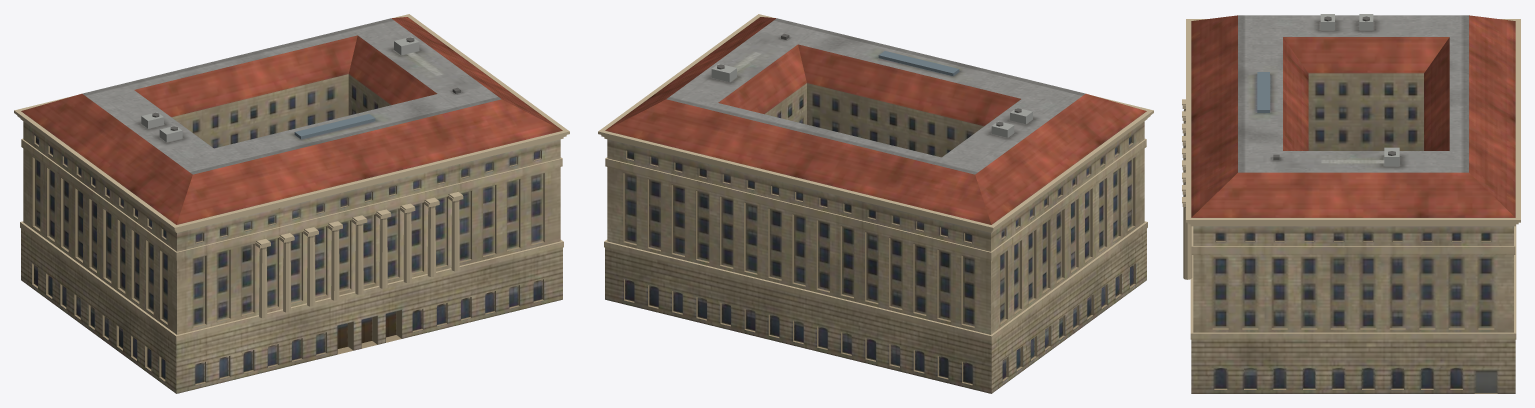
The model's file is dc_fedtri_a.glb.
3 views of the same model, side by side, from view 1: azimuth 30°, elevation 25°; view 2: azimuth 150°, elevation 25°; view 3: azimuth 270°, elevation 25° (orthographic). The views are drawn at different scales.
Parts seen in each view (by area): view 1: dc_fedtri_a; view 2: dc_fedtri_a; view 3: dc_fedtri_a.
Part boxes in pixels (bbox=[...]): dc_fedtri_a: bbox=[14, 14, 569, 393]; dc_fedtri_a: bbox=[598, 14, 1153, 393]; dc_fedtri_a: bbox=[1182, 14, 1520, 393].
Bounding box in the file's own units: 74.2 × 36.55 × 52.82.
Materials: 1 (1 with a texture image).
